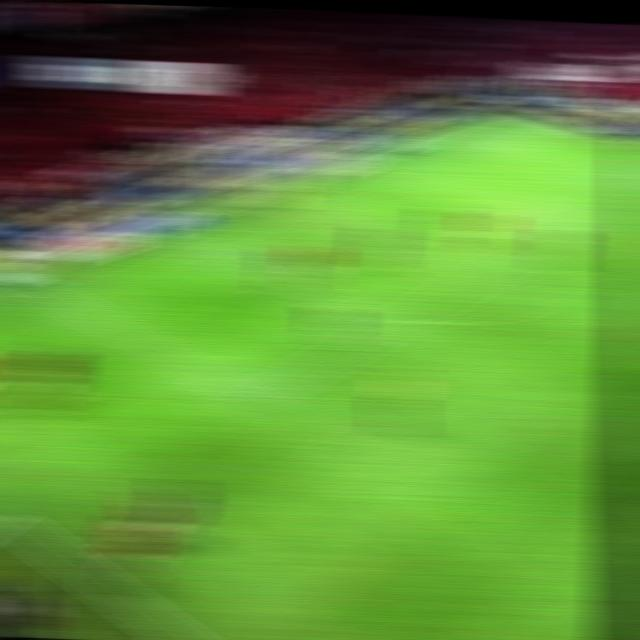bigarea_bottom_inner: (238, 389, 273, 409)
bigarea_bottom_outter: (18, 276, 52, 290)
bigarea_top_inner: (595, 197, 629, 211)
bigarea_top_outter: (408, 142, 440, 152)
bottom_arc_area_intersection: (383, 311, 419, 326)
corner: (491, 110, 526, 118)
smallarea_bottom_inner: (220, 254, 255, 271)
smallarea_bottom_outter: (159, 230, 191, 240)
smallarea_top_inner: (383, 190, 417, 202)
top_arc_area_intersection: (511, 245, 543, 257)
